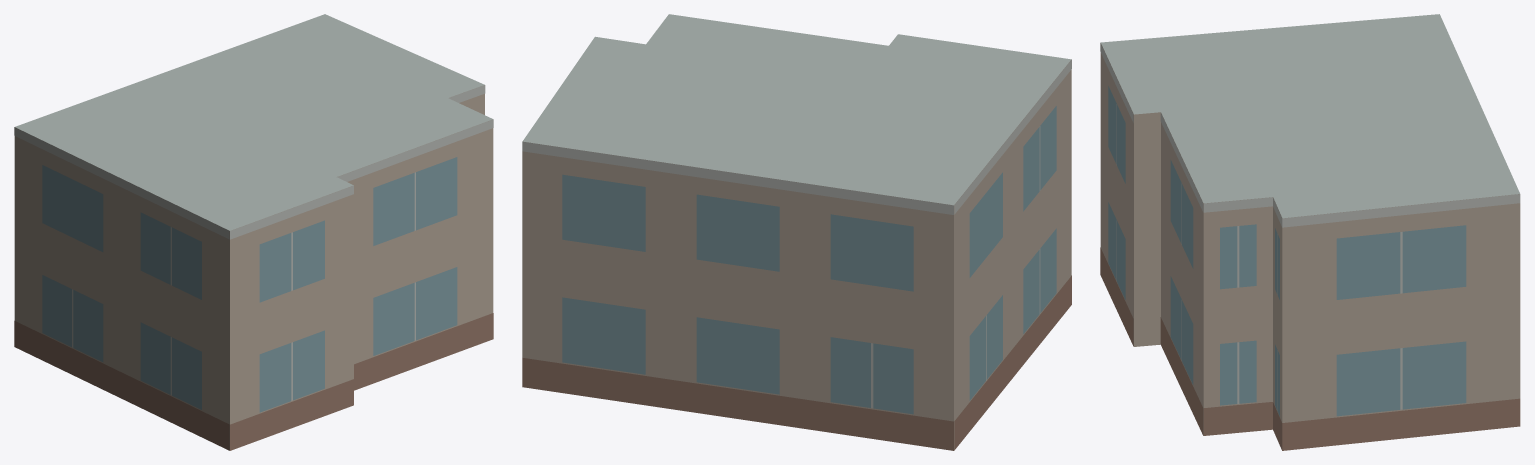
Rendered from survey-upis-32613772.glb.
The picture shows the model from 3 angles, left to right: view 1: azimuth 30°, elevation 25°; view 2: azimuth 150°, elevation 25°; view 3: azimuth 270°, elevation 25°; orthographic projection. The views are drawn at different scales.
Parts seen in each view (by area): view 1: survey-upis-32613772.tmp; view 2: survey-upis-32613772.tmp; view 3: survey-upis-32613772.tmp.
Boxes of the visible parts, bbox=[...] form: survey-upis-32613772.tmp: bbox=[14, 14, 493, 450]; survey-upis-32613772.tmp: bbox=[522, 14, 1071, 450]; survey-upis-32613772.tmp: bbox=[1100, 14, 1520, 450].
Size of the model in its own units: 11.51 by 6.1 by 9.99.
